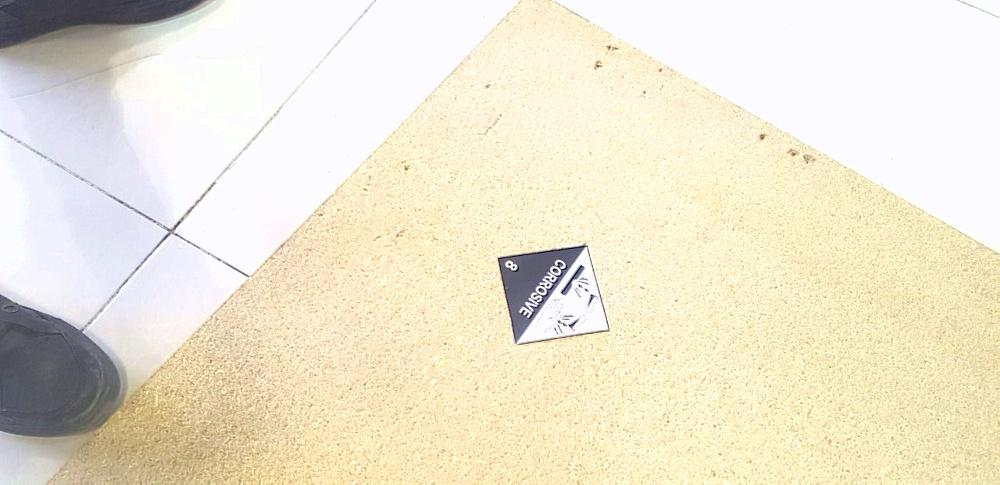corrosive: (495, 245, 612, 346)
